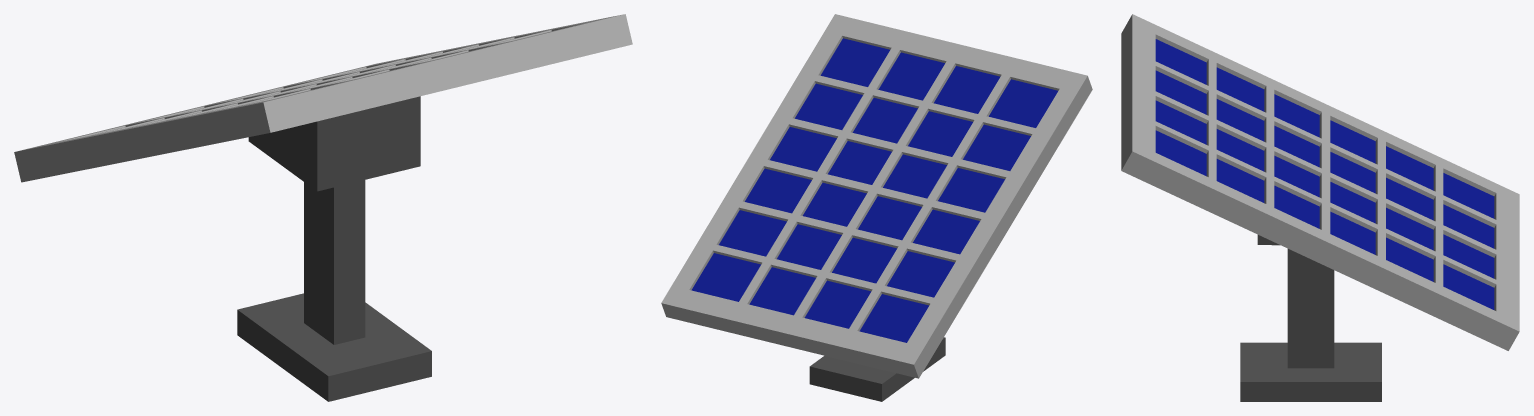
File: Solarpanel1.fbx
3 views of the same model, side by side, from view 1: azimuth 30°, elevation 25°; view 2: azimuth 150°, elevation 25°; view 3: azimuth 270°, elevation 25° (orthographic). The views are drawn at different scales.
Parts seen in each view (by area): view 1: solarpanels; view 2: solarpanels; view 3: solarpanels.
Part boxes in pixels (left/top/right/bottom): solarpanels: left=14, top=14, right=632, bottom=401; solarpanels: left=661, top=14, right=1092, bottom=401; solarpanels: left=1121, top=14, right=1519, bottom=401.
Bounding box in the file's own units: 325 × 329 × 399.
